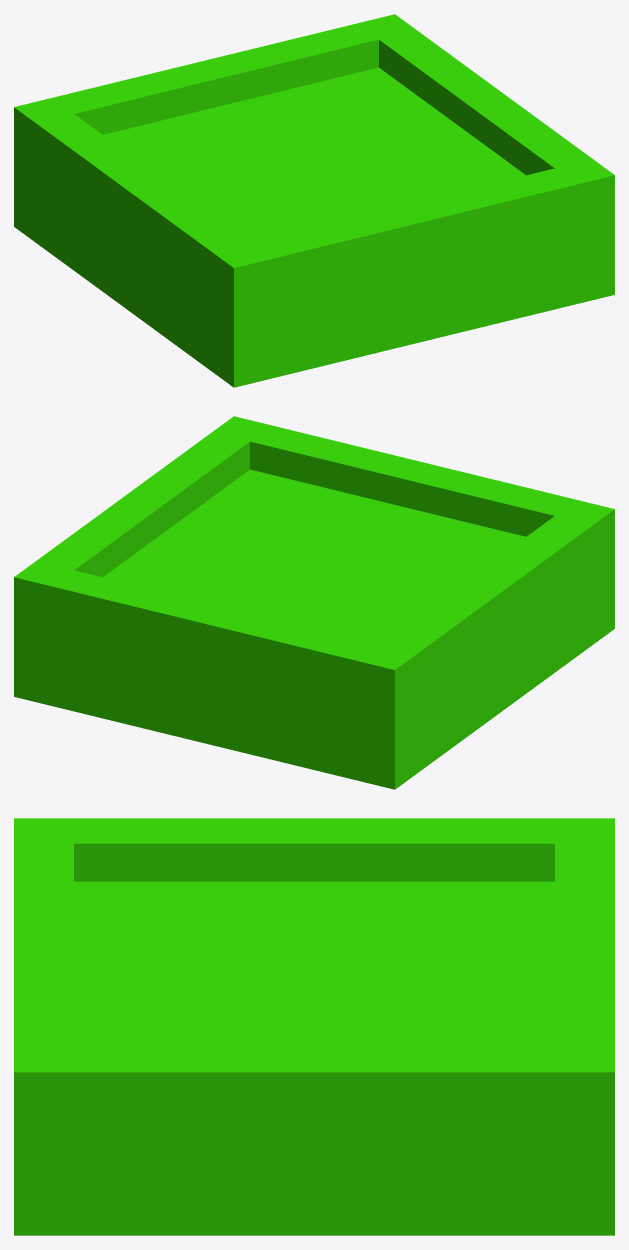
Rendered from fountain02_square_water.fbx.
The picture shows the model from 3 angles, top to bottom: view 1: azimuth 30°, elevation 25°; view 2: azimuth 150°, elevation 25°; view 3: azimuth 270°, elevation 25°; orthographic projection. The views are drawn at different scales.
Visible parts, largest first — view 1: fountain02_square_water; view 2: fountain02_square_water; view 3: fountain02_square_water.
Part boxes in pixels (x1,y1,x2,y2): fountain02_square_water: [14, 14, 614, 387]; fountain02_square_water: [14, 416, 614, 789]; fountain02_square_water: [14, 818, 614, 1235].
Bounding box in the file's own units: 200 × 60 × 200.
